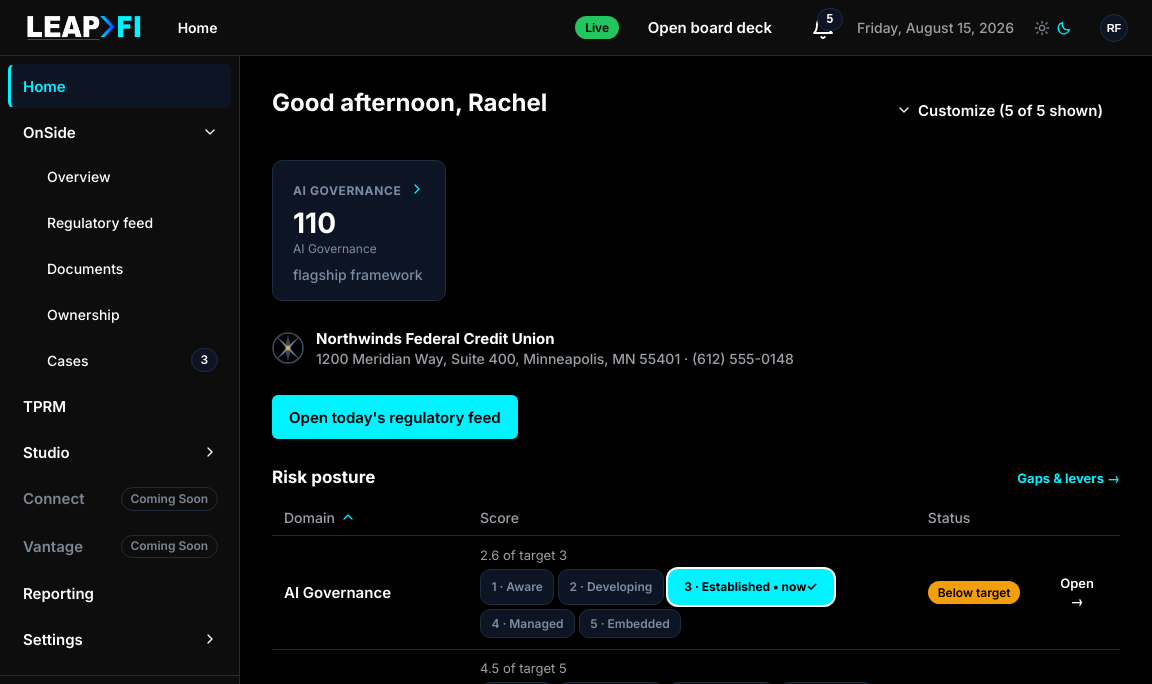
Test: Home customization: visibleKeys flow bar -> panels (base 4122–4193) › Clear all empties the panel set honestly; Reset layout restores the full shipped order (homePanelsClear/homePanelsReset, 4149–4172)
Click the button "Customize (5 of 5 shown)".
click(999, 110)  # box [879,88,1120,132]
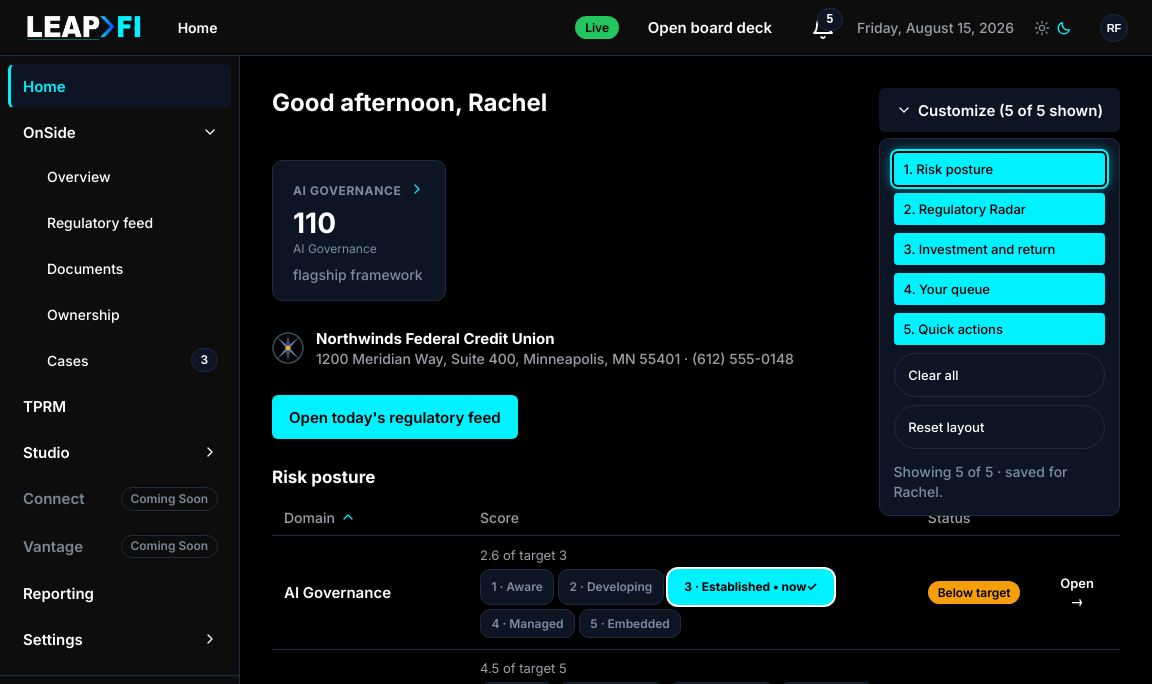
Click the button "Clear all".
click(999, 375)  # box [894,353,1105,397]
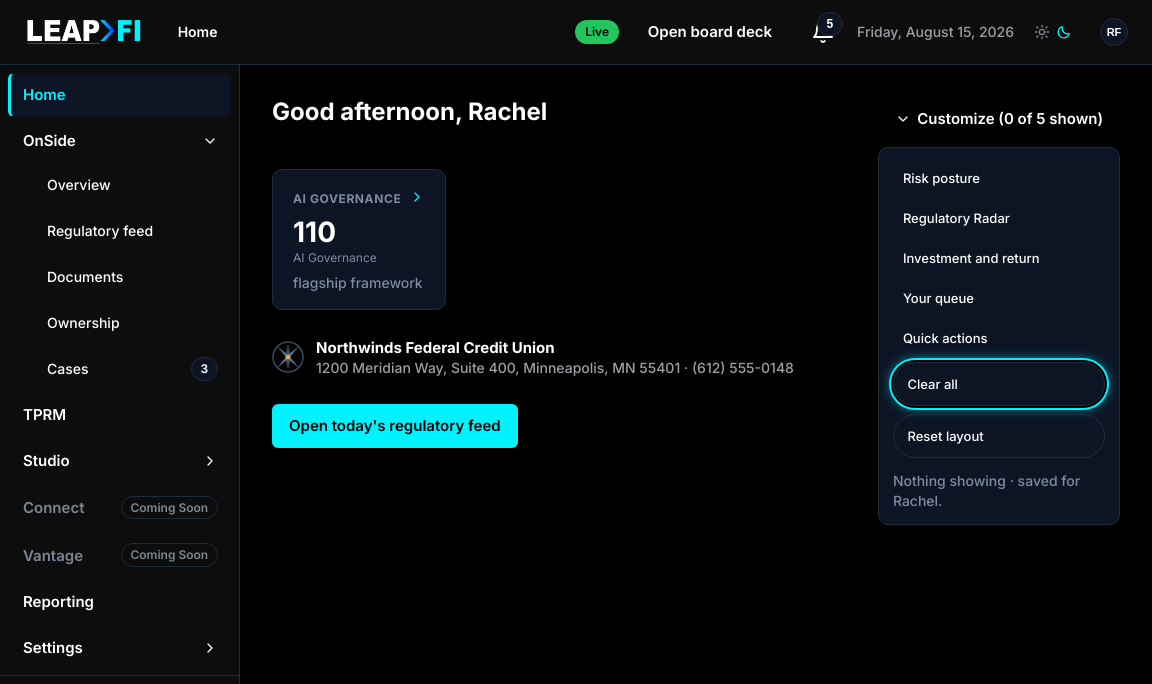
Result: the button "Customize (0 of 5 shown)" is shown at [878,97,1120,141]
Result: the text "Nothing showing · saved for Rachel." is shown at [893,472,1080,509]
Click the button "Reset layout".
click(999, 436)  # box [893,414,1105,458]
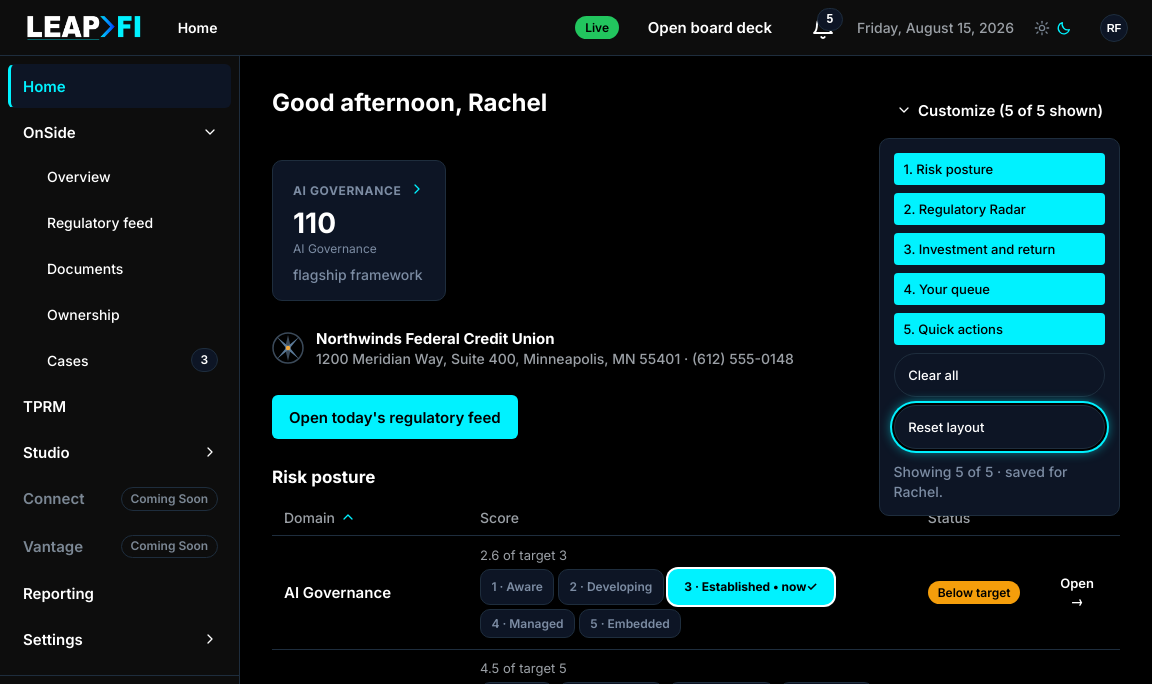
Result: the button "Customize (5 of 5 shown)" is shown at [879,88,1120,132]
